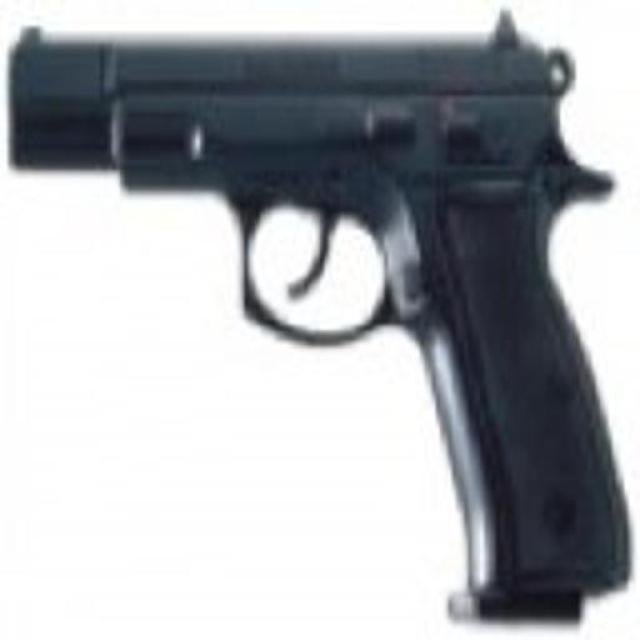pistol: (7, 15, 635, 629)
